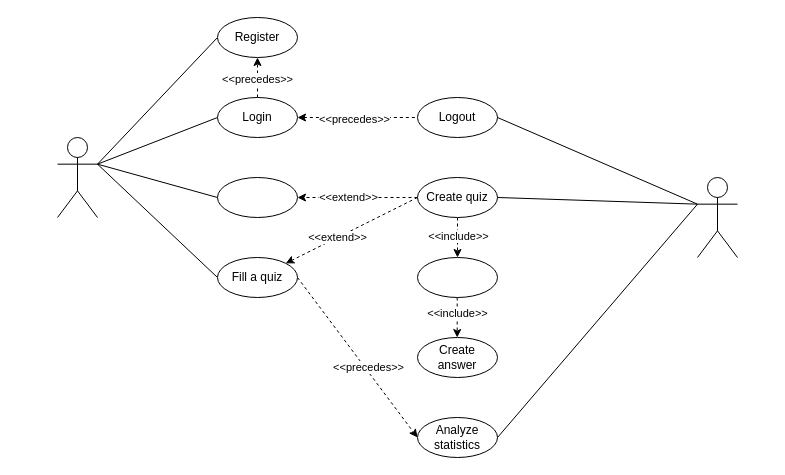
Image size: 785x475. Some labels were removed from this diagram. Each missing label, with the centre of its shape:
Authenticated user: (x=717, y=217)
Create question: (x=457, y=277)
Learn for quiz: (x=257, y=197)
Not authenticated user: (x=77, y=177)
